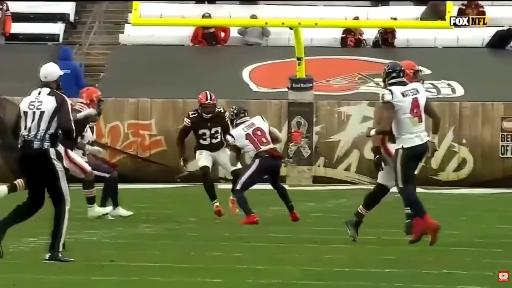Helmet: (383, 62, 405, 87), (400, 61, 423, 83), (198, 91, 217, 117), (80, 87, 102, 108), (230, 107, 249, 127)
Jersey: (381, 83, 429, 147), (183, 107, 230, 152), (227, 116, 275, 158), (62, 117, 90, 154), (78, 124, 95, 145)
Player: (367, 62, 440, 245), (63, 88, 133, 218), (227, 107, 299, 224), (177, 91, 239, 217), (61, 88, 111, 218), (345, 136, 396, 241), (74, 148, 133, 219), (400, 61, 423, 84), (0, 179, 26, 197)
